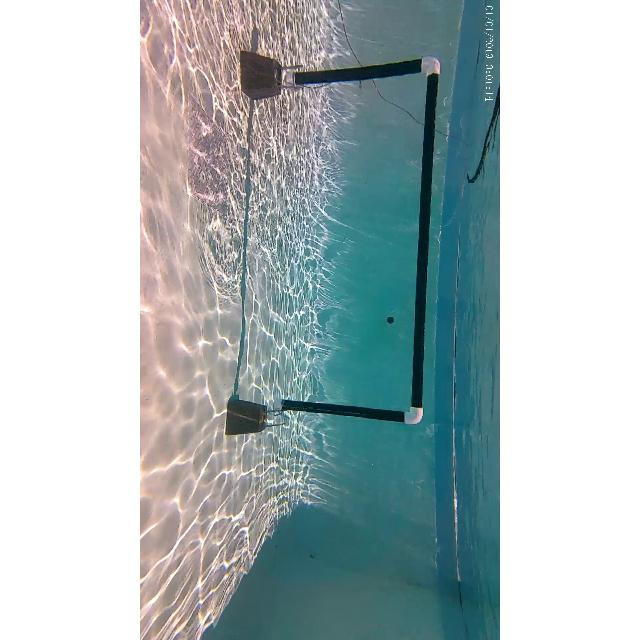prequal gate: (276, 57, 440, 426)
prequal gate leg l: (232, 44, 444, 100)
prequal gate leg r: (220, 386, 438, 442)
